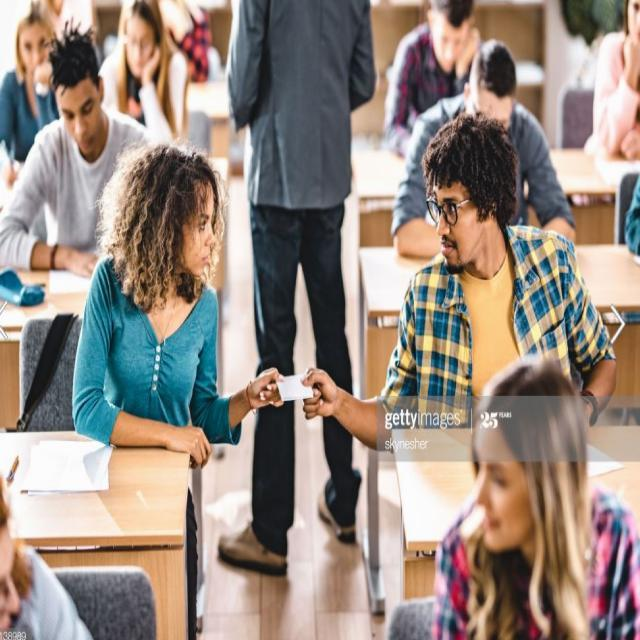cheating: (367, 109, 622, 409), (59, 142, 237, 454), (230, 343, 362, 437)
